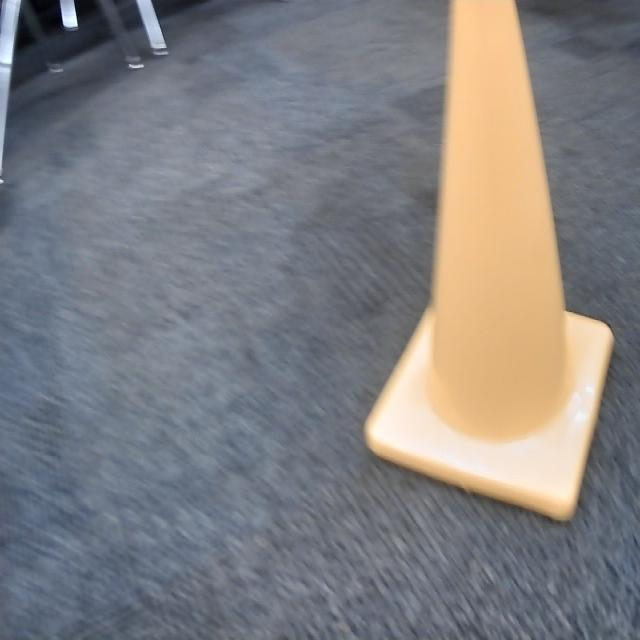cone: (356, 0, 618, 531)
